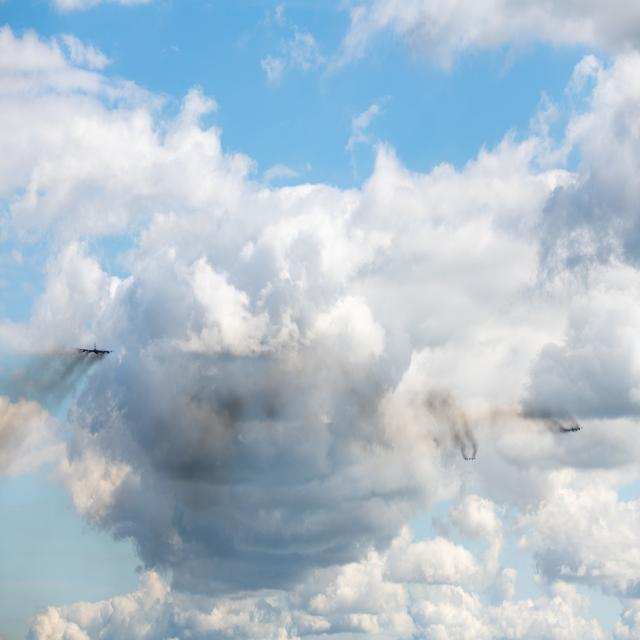MIL_Plane: (57, 322, 96, 335), (560, 424, 584, 432), (463, 456, 476, 460)
